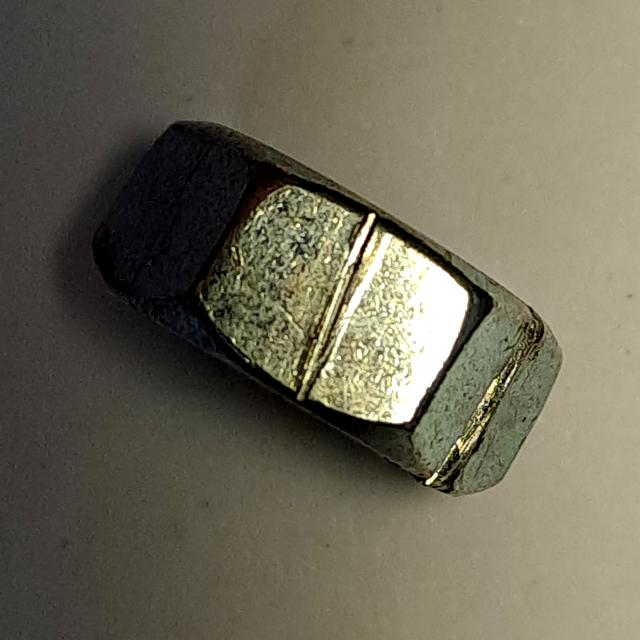Side_Scratches: (66, 103, 573, 509)
